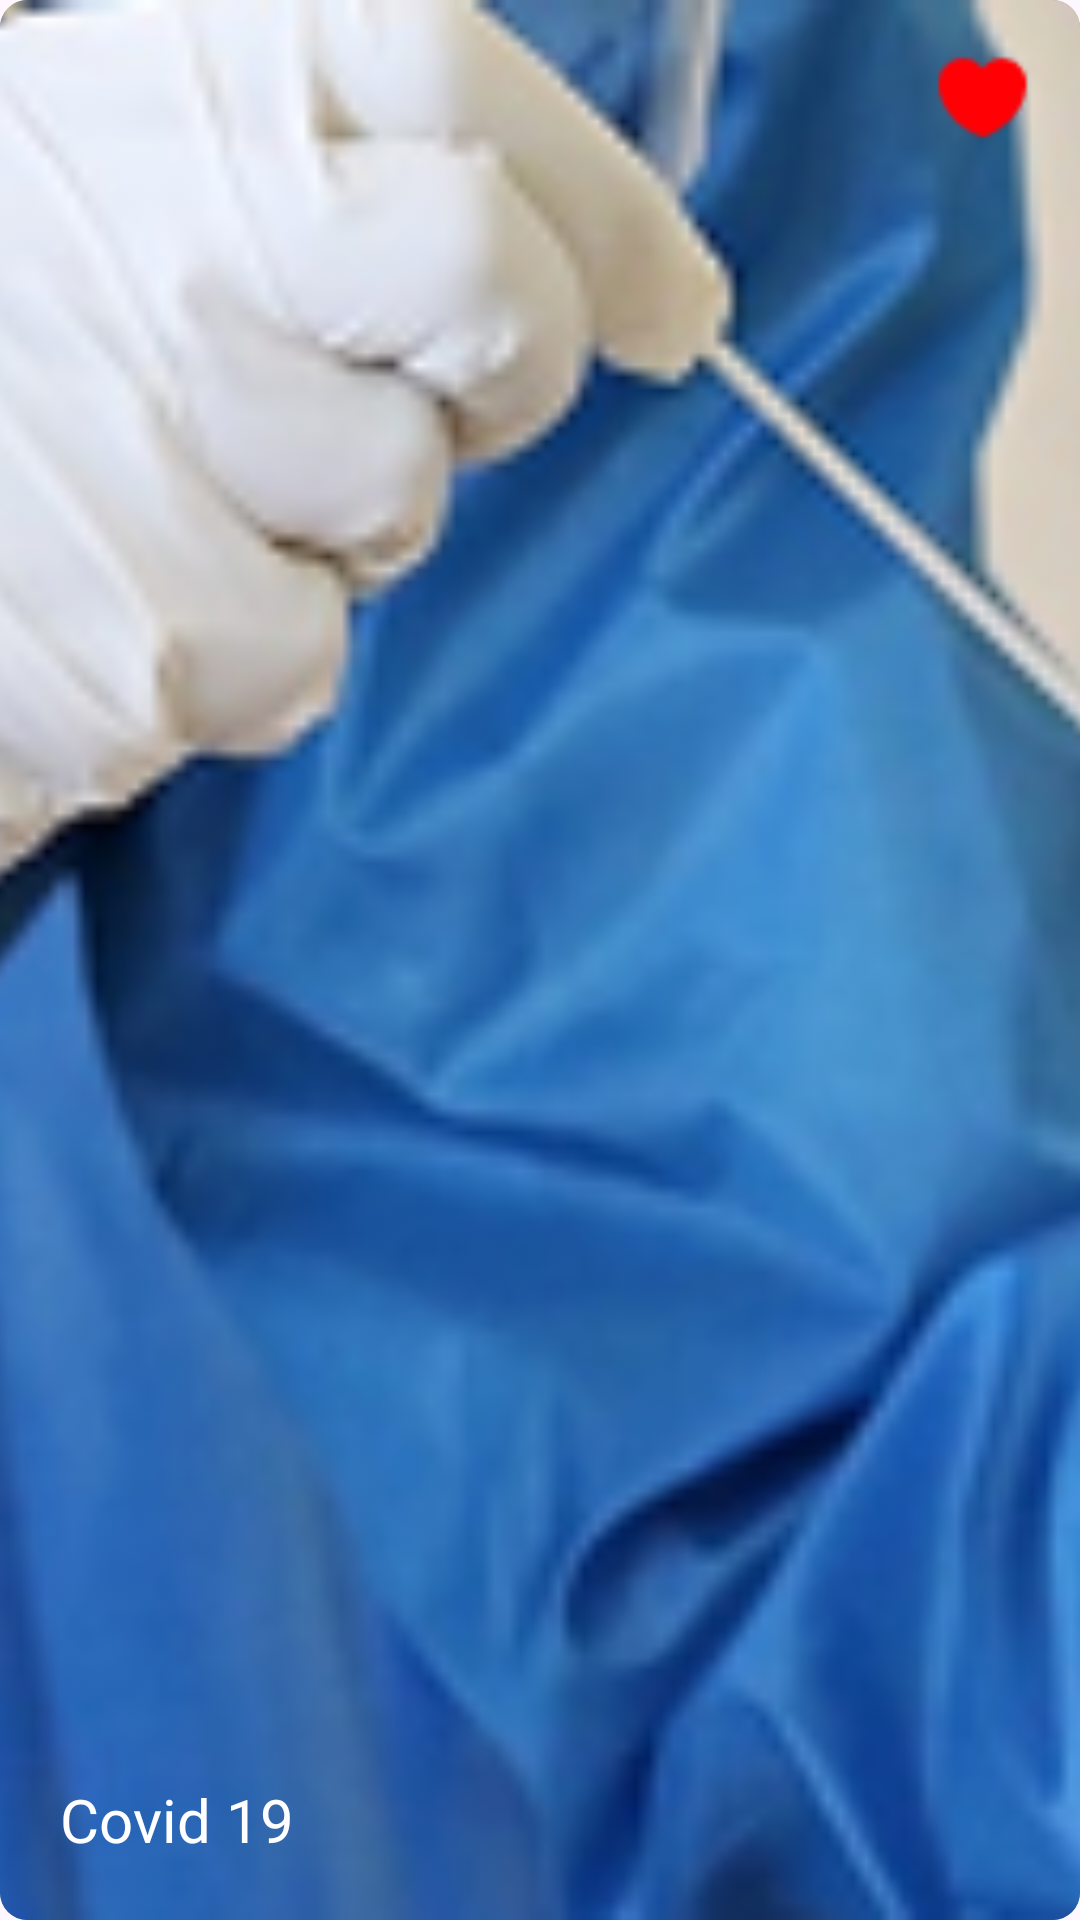

Icons on this 1080px×1920px Android screen, each with the point to tap as point (x, y):
heartred: point (982, 97)
